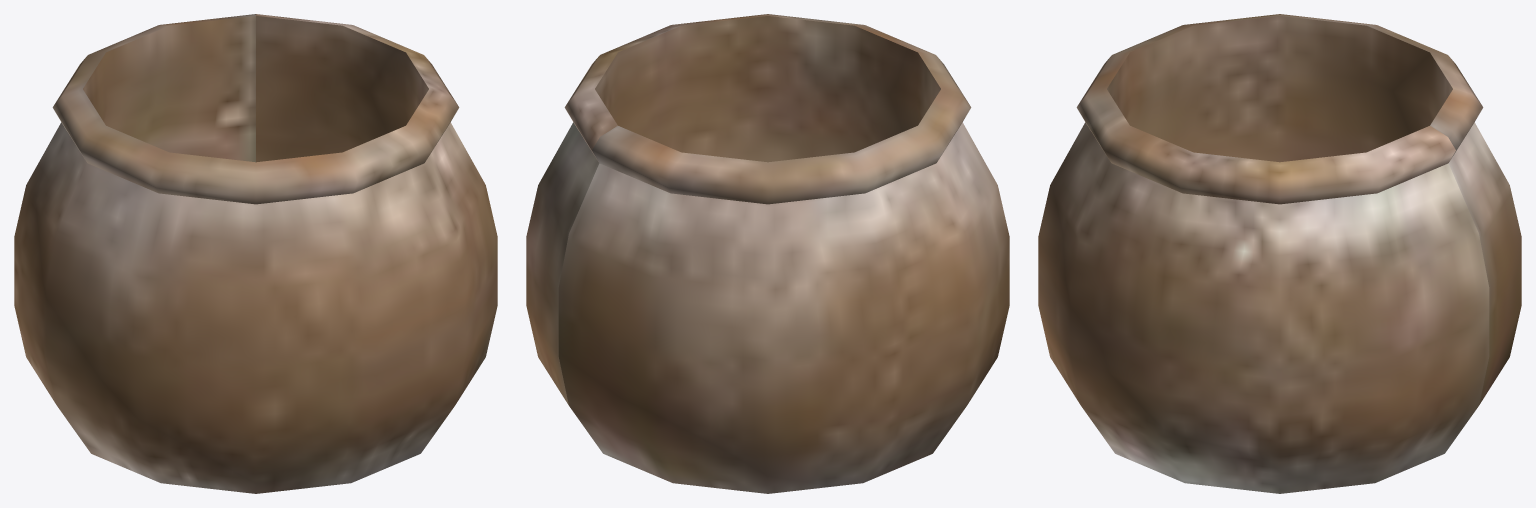
The model's file is water_vat.glb.
The picture shows the model from 3 angles, left to right: view 1: azimuth 30°, elevation 25°; view 2: azimuth 150°, elevation 25°; view 3: azimuth 270°, elevation 25°; orthographic projection.
Visible parts, largest first — view 1: mumushejisucai653_67; view 2: mumushejisucai653_67; view 3: mumushejisucai653_67.
Part boxes in pixels (x1=…): mumushejisucai653_67: x1=14, y1=14, x2=497, y2=493; mumushejisucai653_67: x1=526, y1=14, x2=1009, y2=493; mumushejisucai653_67: x1=1038, y1=14, x2=1521, y2=493.
Bounding box in the file's own units: 1.08 × 0.8 × 1.08.
1 material, 1 textured.
